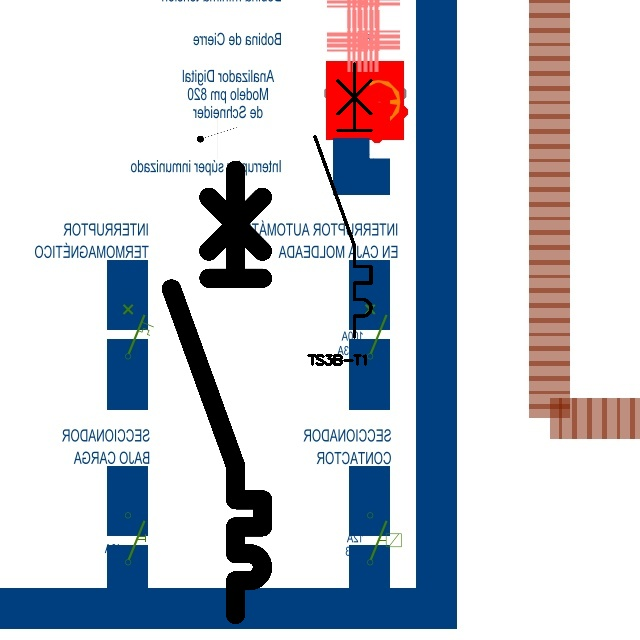interruptor_termomagnetico: (160, 158, 274, 625), (308, 57, 378, 344)
